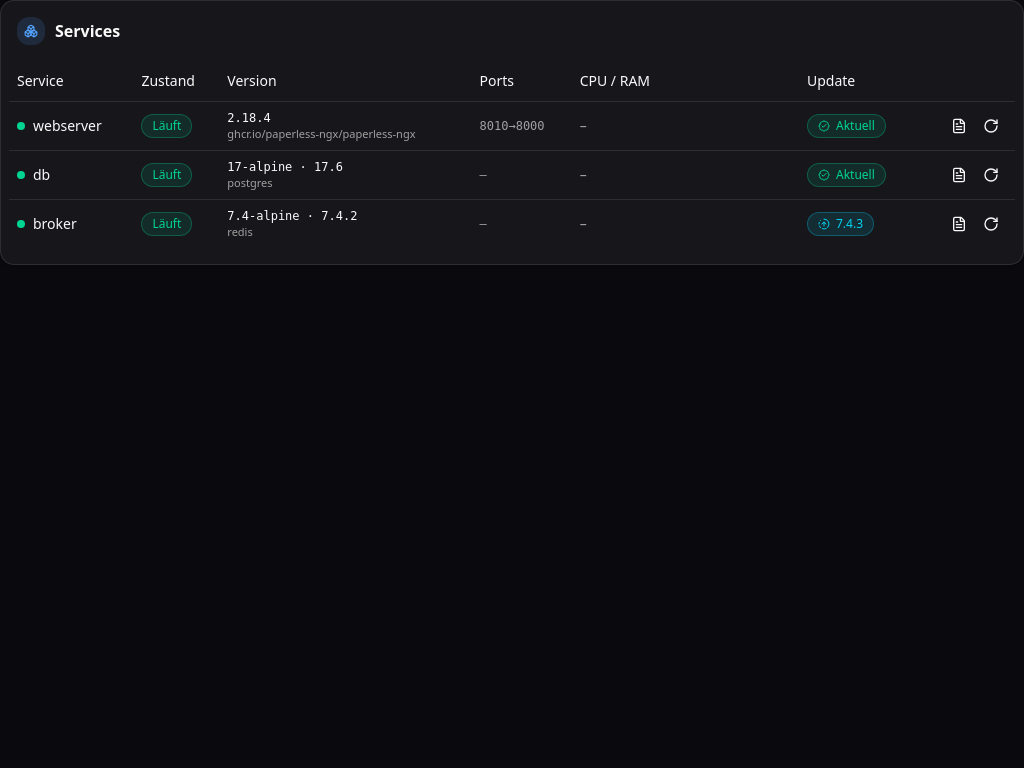
single-service restart entrypoints › the stack page service row asks first and names the service
The width and height of the screenshot is (1024, 768).
Click the button named "broker neu starten".
click(991, 224)  # box [975, 208, 1007, 240]
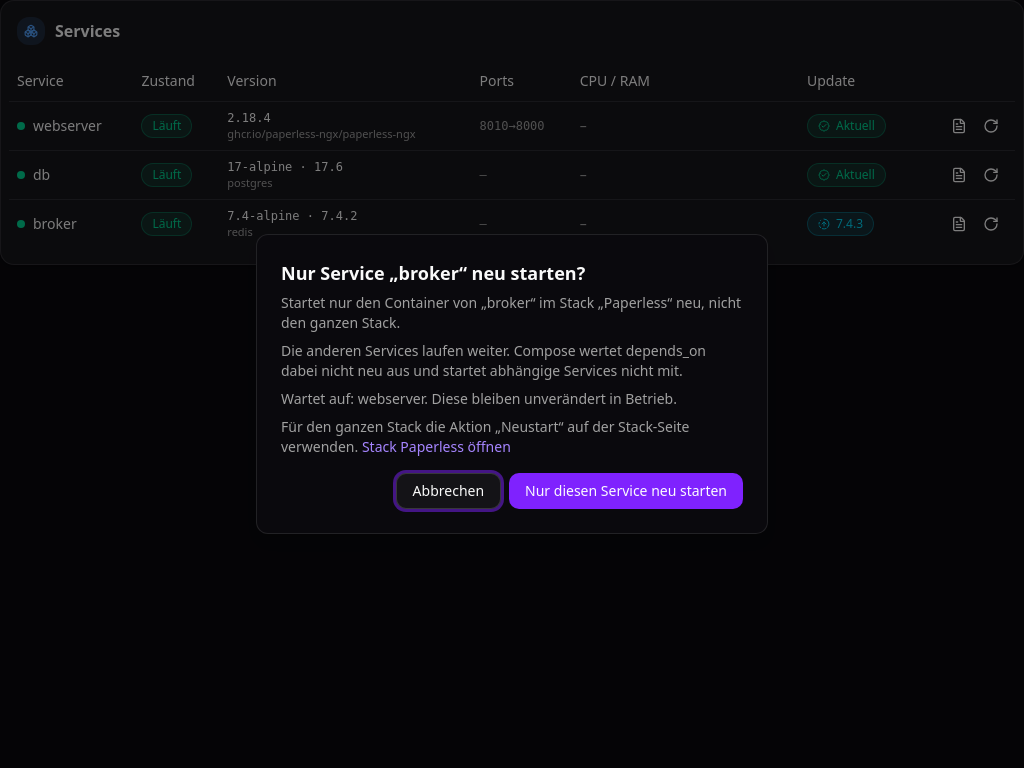
Result: the dialog "Nur Service „broker“ neu starten?" is shown at [256, 234, 768, 534]
